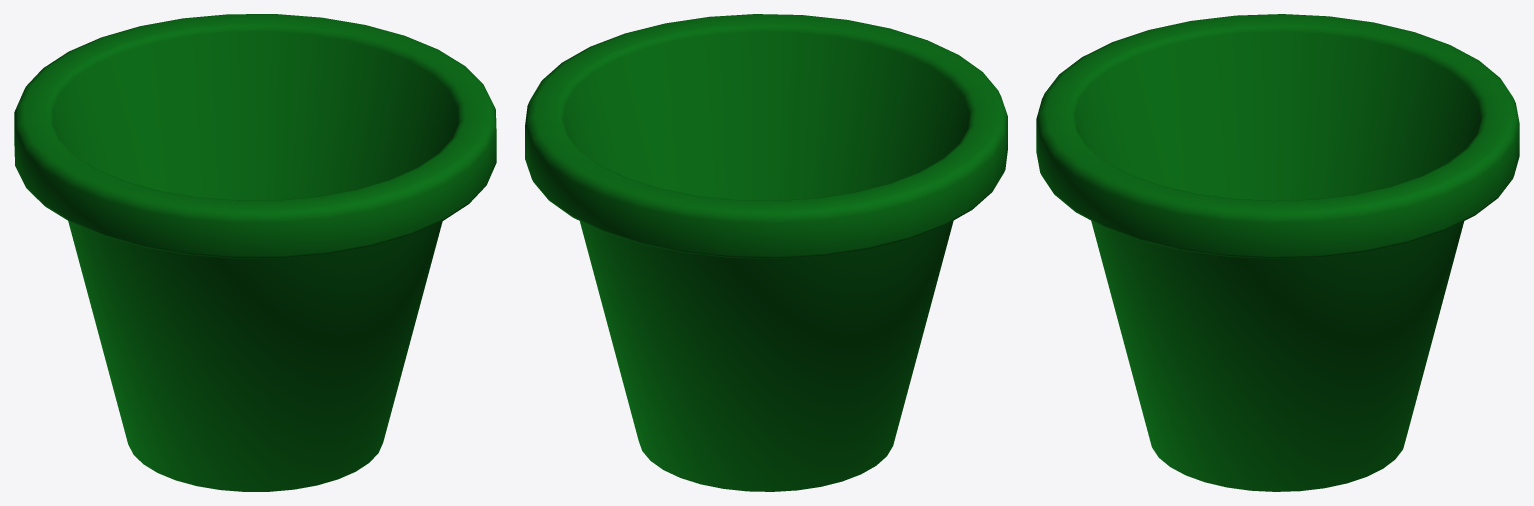
Rendered from FlowerPot.fbx.
3 renders of one model, left to right at view 1: azimuth 30°, elevation 25°; view 2: azimuth 150°, elevation 25°; view 3: azimuth 270°, elevation 25°, orthographic.
Parts seen in each view (by area): view 1: FlowerPot; view 2: FlowerPot; view 3: FlowerPot.
Part boxes in pixels (x1=…): FlowerPot: x1=14, y1=14, x2=496, y2=491; FlowerPot: x1=525, y1=14, x2=1007, y2=491; FlowerPot: x1=1036, y1=14, x2=1519, y2=491.
Bounding box in the file's own units: 73.06 × 54.3 × 73.06.
1 material, 1 textured.
